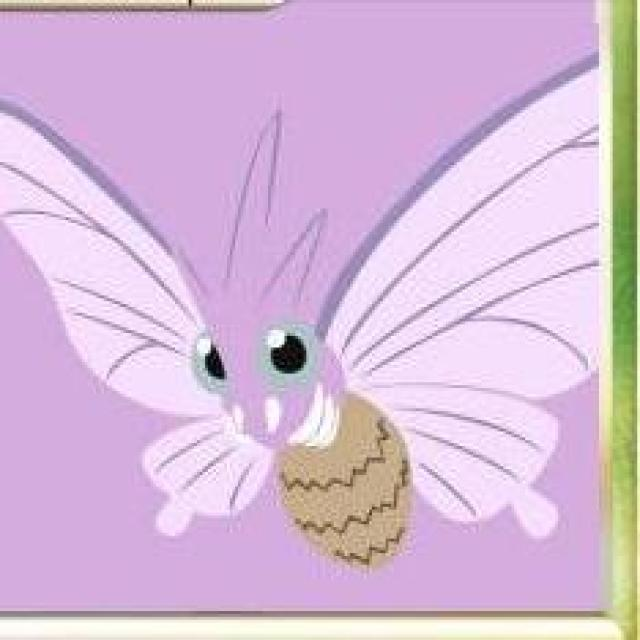Venomoth: (133, 114, 562, 562)
